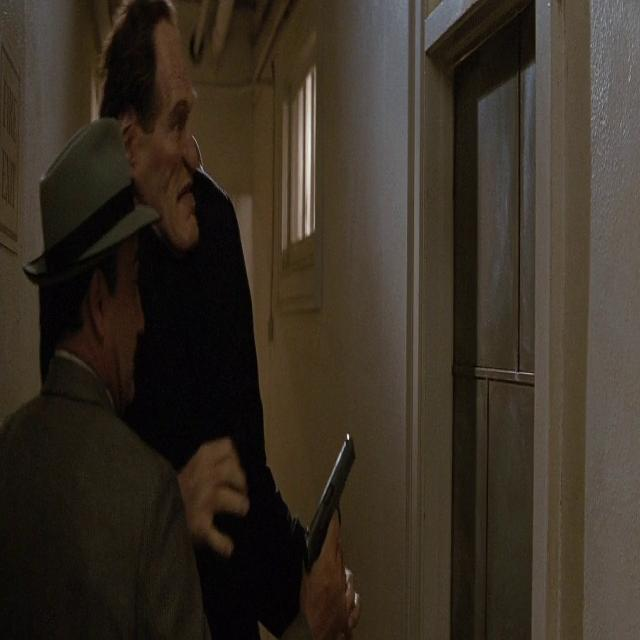gun-knife-thesis - v11 Yolov5 augmented: (289, 416, 383, 638)
